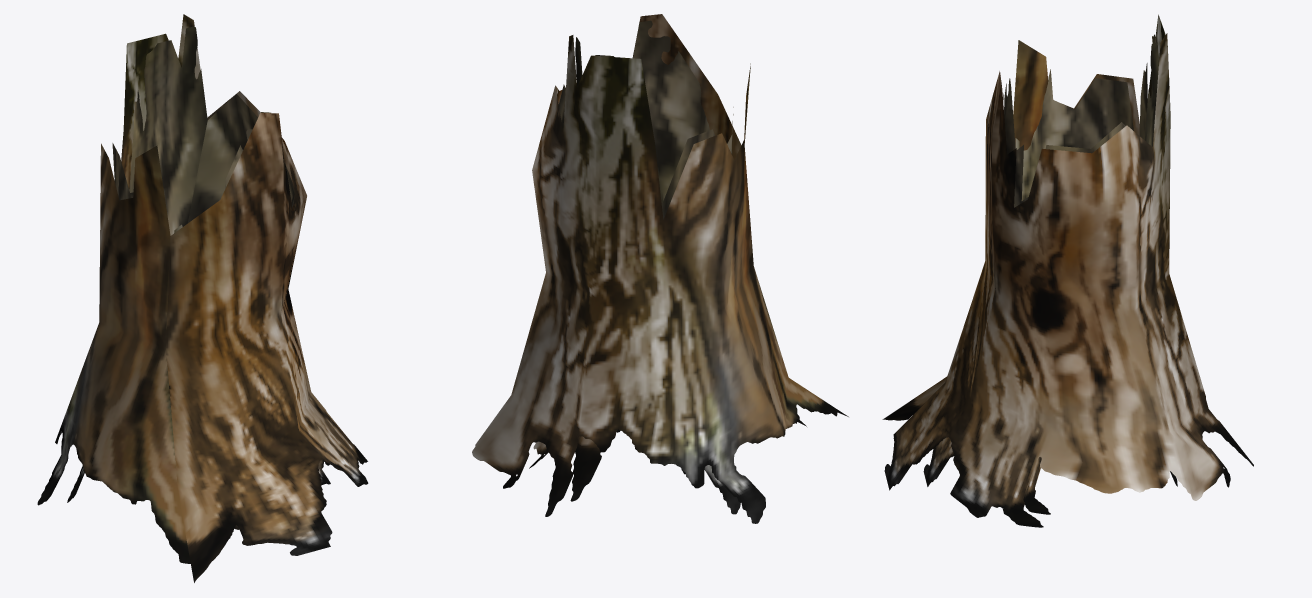
The model's file is PRP_TreeFallenB.FBX.
3 views of the same model, side by side, from view 1: azimuth 30°, elevation 25°; view 2: azimuth 150°, elevation 25°; view 3: azimuth 270°, elevation 25° (orthographic). The views are drawn at different scales.
Visible parts, largest first — view 1: PRP_TreeFallenB; view 2: PRP_TreeFallenB; view 3: PRP_TreeFallenB.
Part boxes in pixels (x1,y1,x2,y2): PRP_TreeFallenB: (37, 14, 368, 582); PRP_TreeFallenB: (472, 14, 848, 523); PRP_TreeFallenB: (882, 14, 1253, 527).
Bounding box in the file's own units: 312 × 439 × 338.
